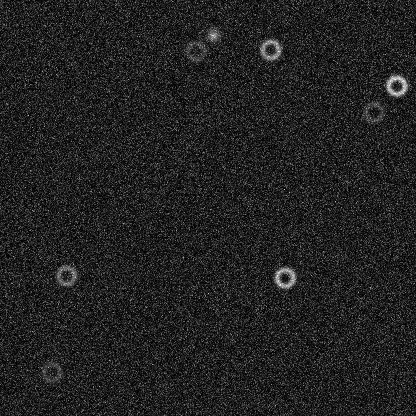Ring: (384, 73, 408, 97), (272, 265, 296, 289), (39, 360, 63, 384), (258, 37, 282, 61), (361, 100, 385, 124), (183, 38, 207, 62), (54, 263, 78, 287)
Spot: (205, 27, 221, 43)
